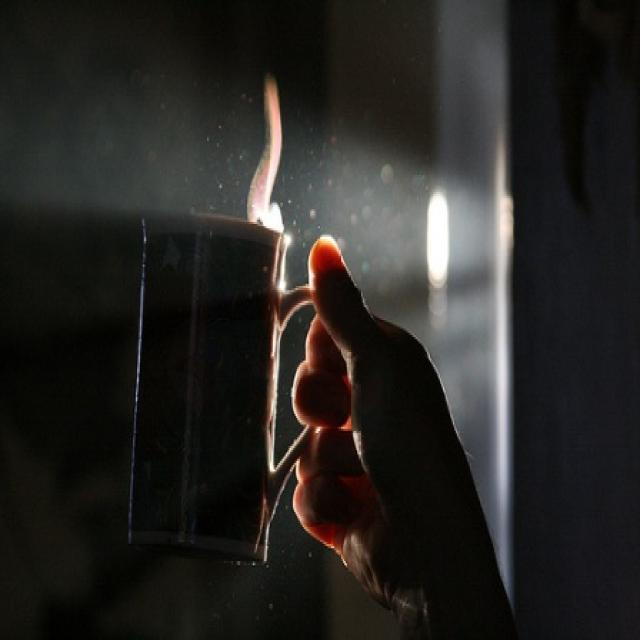Cup: (141, 204, 276, 598)
People: (290, 223, 543, 640)
